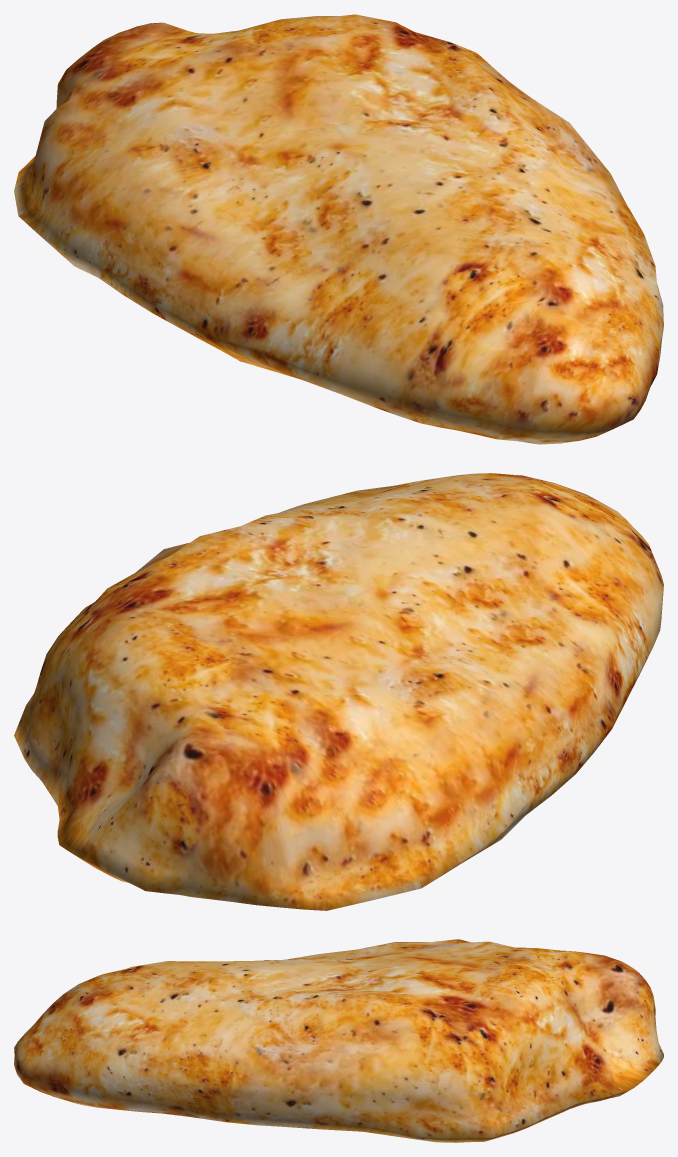
File: chicken_breast_grilled.glb
3 views of the same model, one above another, from view 1: azimuth 30°, elevation 25°; view 2: azimuth 150°, elevation 25°; view 3: azimuth 270°, elevation 25° (orthographic). The views are drawn at different scales.
Parts seen in each view (by area): view 1: Chiken_Fried.001_0; view 2: Chiken_Fried.001_0; view 3: Chiken_Fried.001_0.
Boxes of the visible parts, x1,y1,x2,y2 form: Chiken_Fried.001_0: [14, 14, 663, 444]; Chiken_Fried.001_0: [14, 473, 663, 910]; Chiken_Fried.001_0: [14, 939, 663, 1142].
Bounding box in the file's own units: 0.7456 × 0.3171 × 1.29.
Materials: 1 (1 with a texture image).
